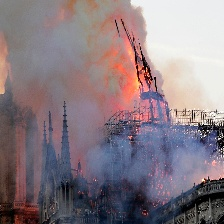fire: (116, 39, 157, 98), (195, 158, 224, 187)
smoke: (2, 1, 185, 148)
